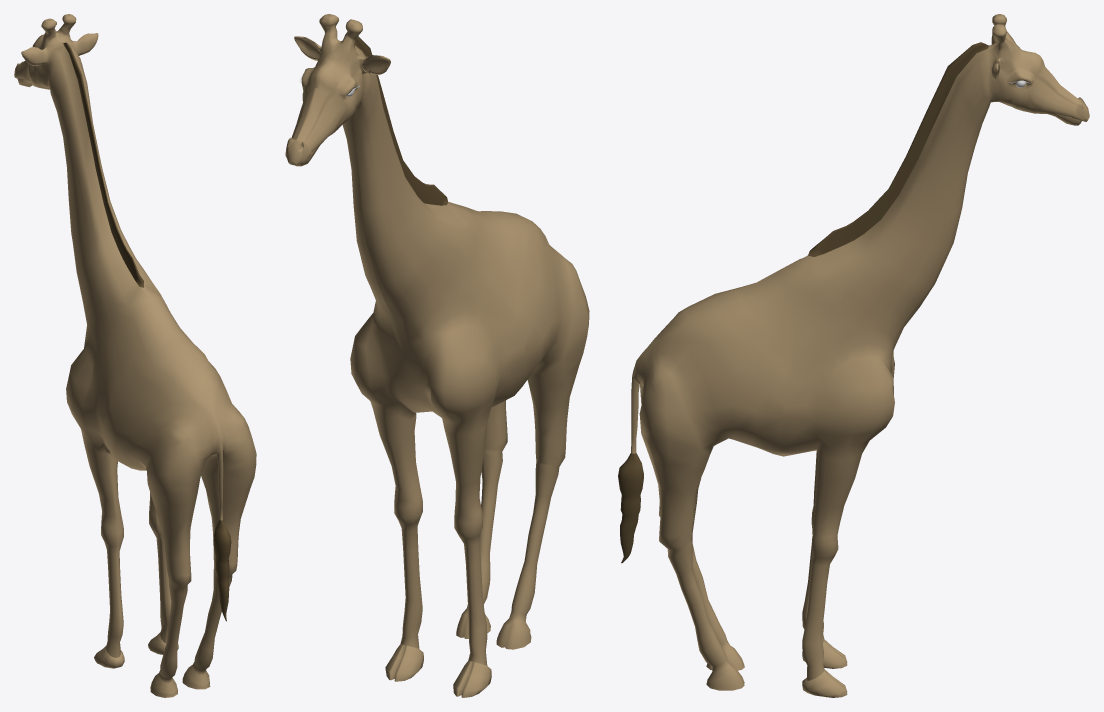
The model's file is RealisticGiraffe.fbx.
The picture shows the model from 3 angles, left to right: view 1: azimuth 30°, elevation 25°; view 2: azimuth 150°, elevation 25°; view 3: azimuth 270°, elevation 25°; orthographic projection. The views are drawn at different scales.
Visible parts, largest first — view 1: Giraffe2; view 2: Giraffe2; view 3: Giraffe2.
Boxes of the visible parts, x1,y1,x2,y2 form: Giraffe2: (14,14,256,697); Giraffe2: (285,14,589,697); Giraffe2: (618,14,1089,697).
Bounding box in the file's own units: 4.36 × 23.28 × 15.11.
